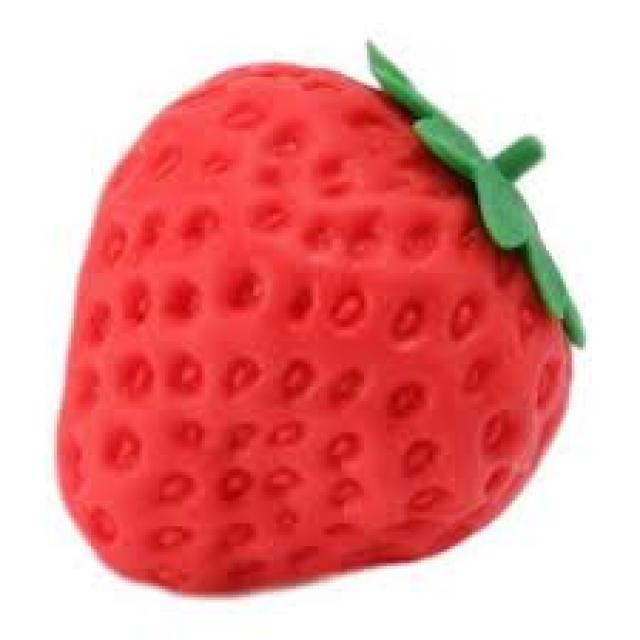organic waste: (51, 34, 583, 592)
